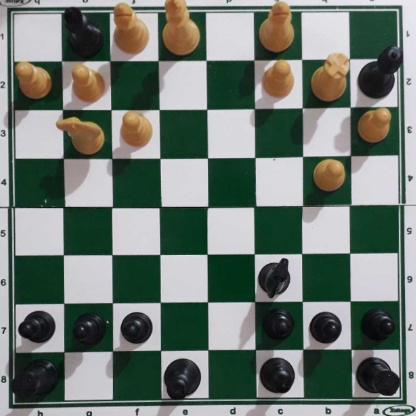black-bishop: (64, 8, 104, 58), (258, 358, 299, 395)
black-king: (163, 359, 204, 402)
black-knight: (256, 258, 294, 299)
black-pawn: (20, 311, 56, 347), (72, 315, 106, 348), (121, 313, 154, 347), (362, 311, 396, 343), (312, 312, 343, 346), (264, 311, 294, 345)
black-queen: (358, 45, 404, 99)
black-rook: (356, 358, 404, 400), (15, 362, 58, 407)
white-bishop: (257, 2, 295, 54), (114, 5, 151, 55)
white-king: (163, 2, 201, 56)
white-knight: (55, 117, 106, 158)
white-pawn: (70, 65, 108, 106), (262, 61, 297, 101), (311, 160, 349, 196), (16, 65, 53, 101), (358, 108, 394, 145), (121, 112, 154, 150)
white-rook: (311, 55, 349, 103)
